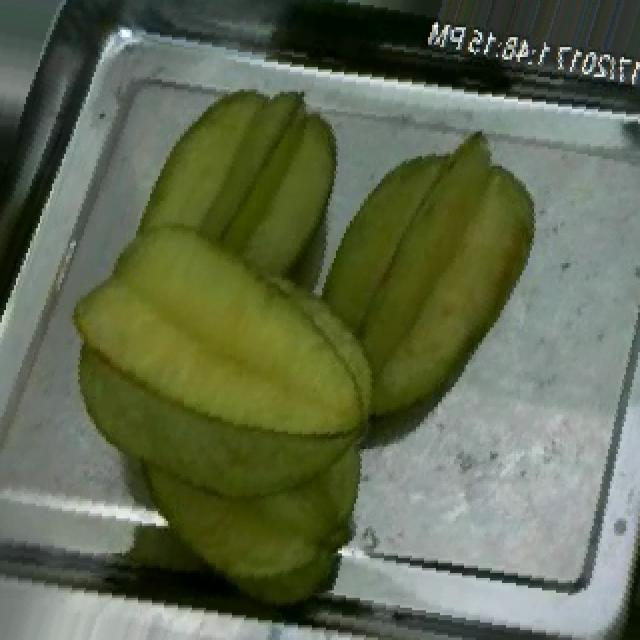fruit: (36, 122, 422, 615), (290, 117, 568, 454), (108, 62, 360, 310)
